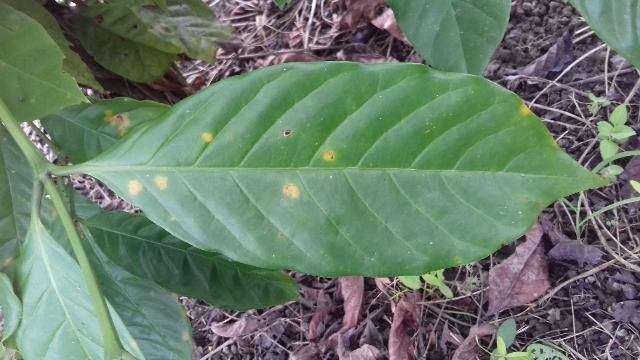rust_level_1: (80, 63, 616, 277)
